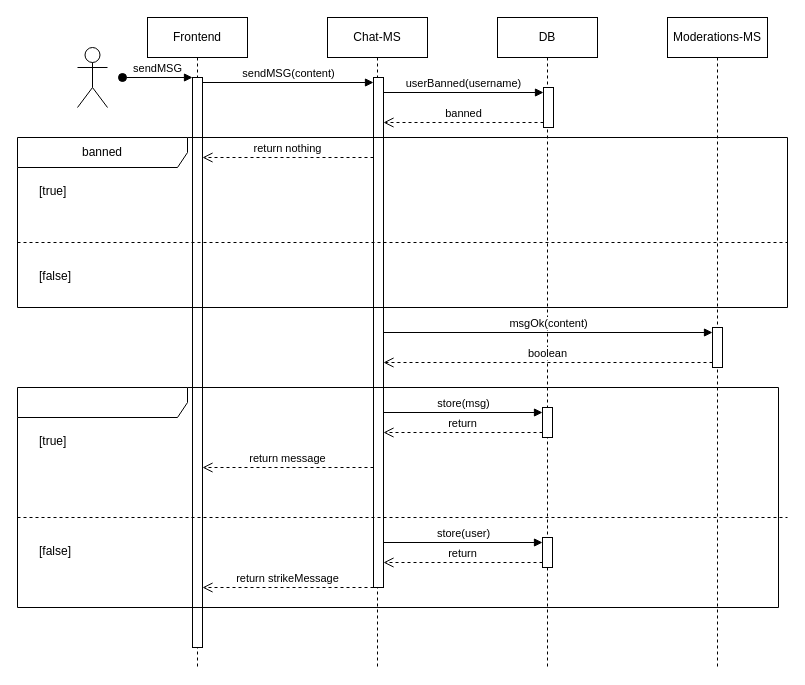
Some shapes in this 805 by 685 pixel diagram are drawn without their labels. The shapes that lost their labels are listed below. From the top down, each one's centre as x and y in pixels, then its label:
At point (92, 77): "Actor".
At point (397, 497): "msgOk".
